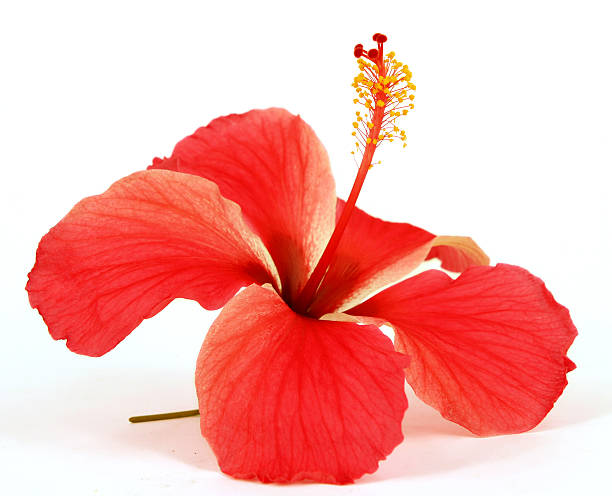Hibiscus: (18, 39, 597, 488)
